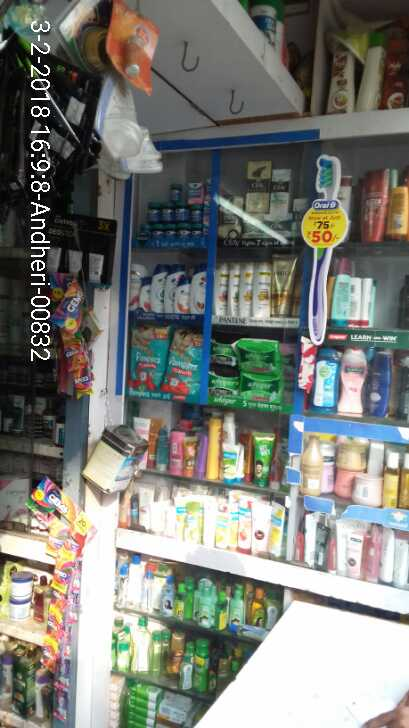vicks: (133, 177, 214, 248)
